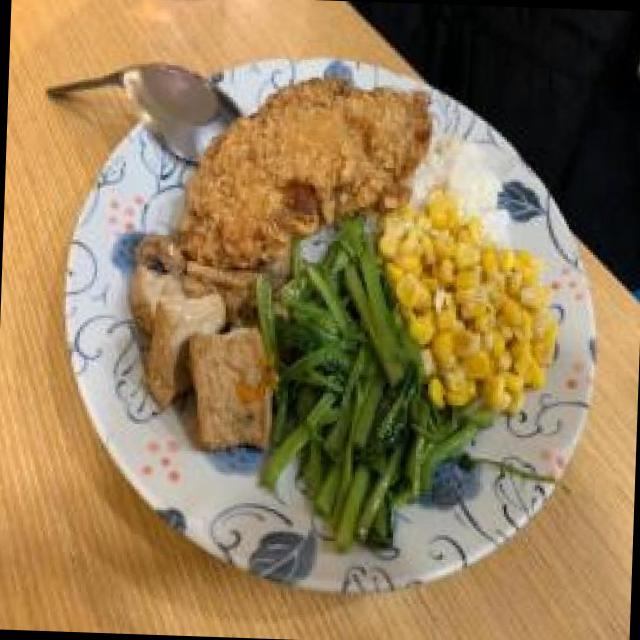fried_chicken: (181, 70, 431, 276)
water_spinach: (270, 244, 440, 527)
